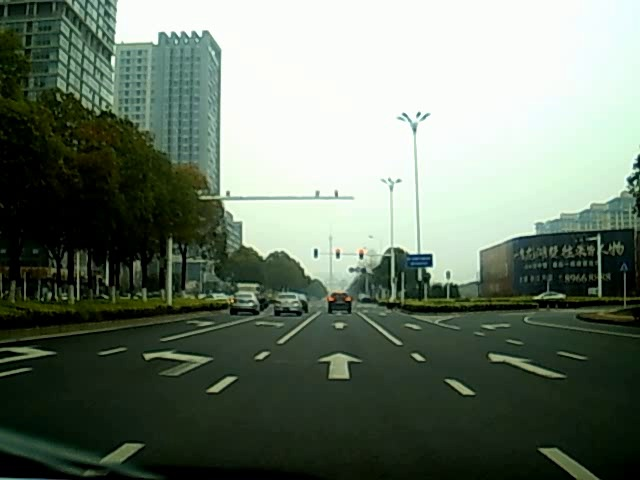Traffic_Light_stop: (357, 248, 365, 262), (334, 249, 340, 260)
